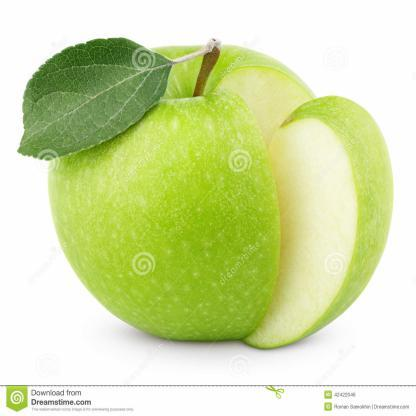Apple leaf: (11, 31, 176, 166)
